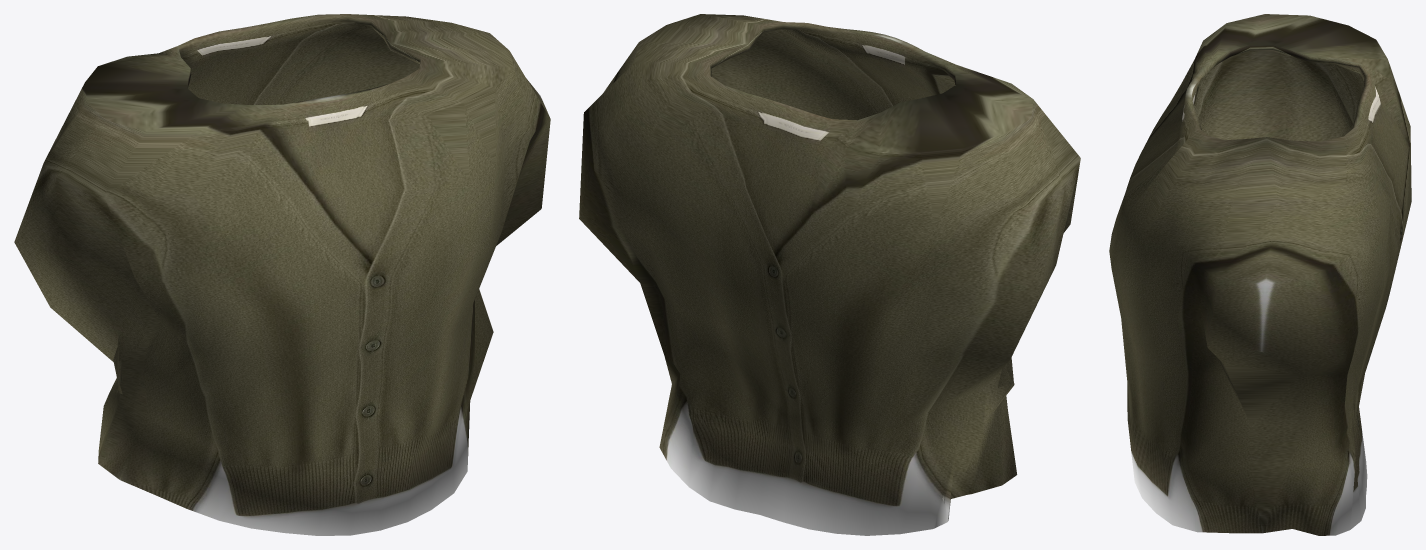
File: d05a801d-70f9-4fdc-aa25-ac5679d89a75.glb
3 renders of one model, left to right at view 1: azimuth 30°, elevation 25°; view 2: azimuth 150°, elevation 25°; view 3: azimuth 270°, elevation 25°, orthographic. The views are drawn at different scales.
Parts seen in each view (by area): view 1: garment; view 2: garment; view 3: garment.
Part boxes in pixels (bbox=[...]): garment: bbox=[14, 14, 550, 535]; garment: bbox=[579, 14, 1080, 535]; garment: bbox=[1109, 14, 1411, 535].
Bounding box in the file's own units: 0.5483 × 0.4613 × 0.3221.
Materials: 1 (1 with a texture image).
